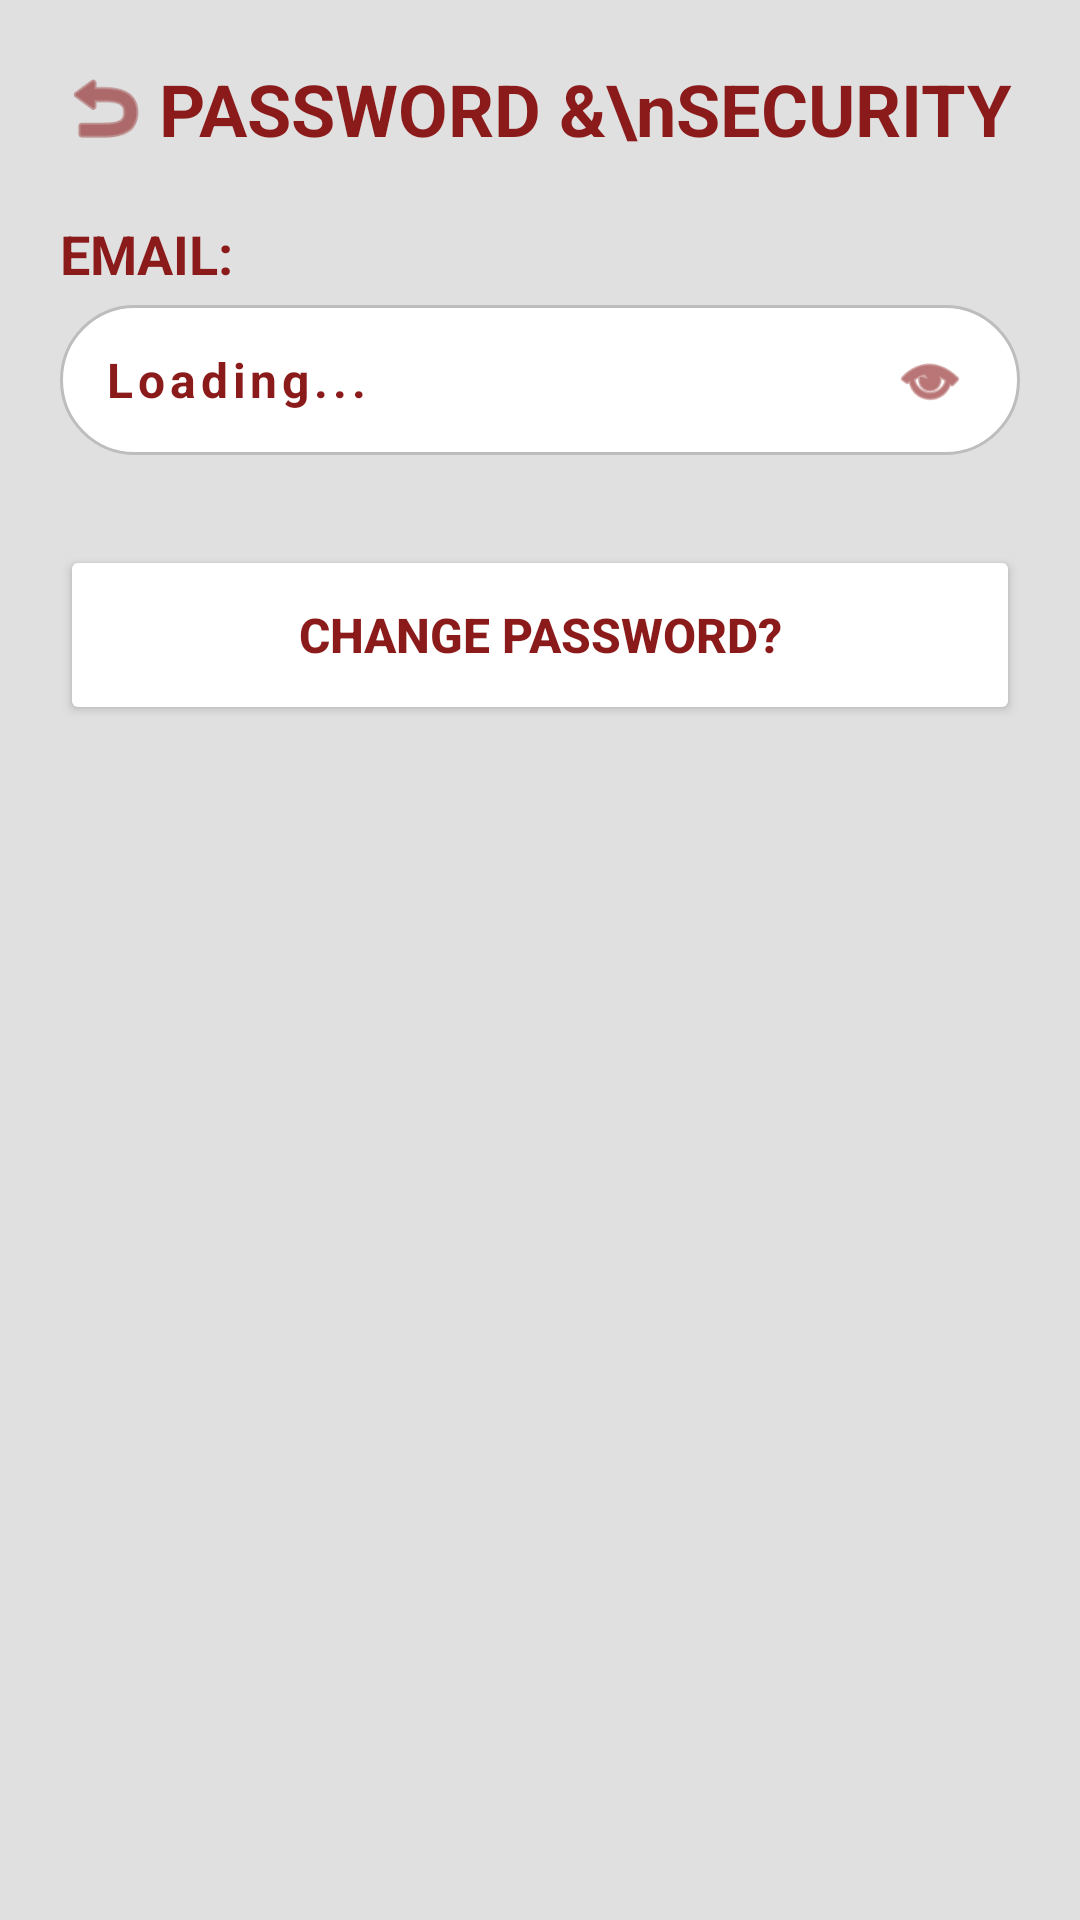

Point at icon controls on the screen. Image size 1080w x 1920h, points as [x,y].
revert: [106,108]
view: [930,381]
